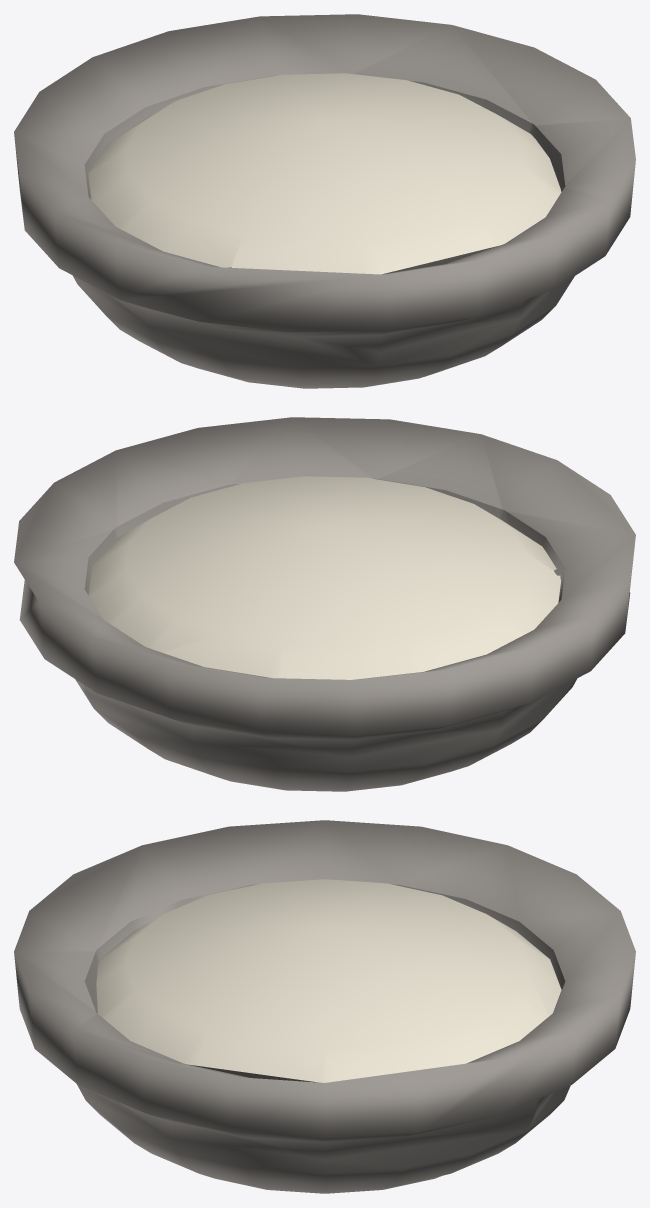
File: FolklostBowl.fbx
3 views of the same model, one above another, from view 1: azimuth 30°, elevation 25°; view 2: azimuth 150°, elevation 25°; view 3: azimuth 270°, elevation 25° (orthographic).
Parts seen in each view (by area): view 1: BowlShape, PorridgeShape; view 2: BowlShape, PorridgeShape; view 3: BowlShape, PorridgeShape.
Part boxes in pixels (x1,y1,x2,y2): BowlShape: (14, 14, 635, 388); PorridgeShape: (88, 73, 561, 274); BowlShape: (14, 417, 635, 791); PorridgeShape: (88, 476, 560, 679); BowlShape: (14, 820, 635, 1193); PorridgeShape: (96, 879, 561, 1082).
Bounding box in the file's own units: 2.82 × 1.04 × 2.82.
